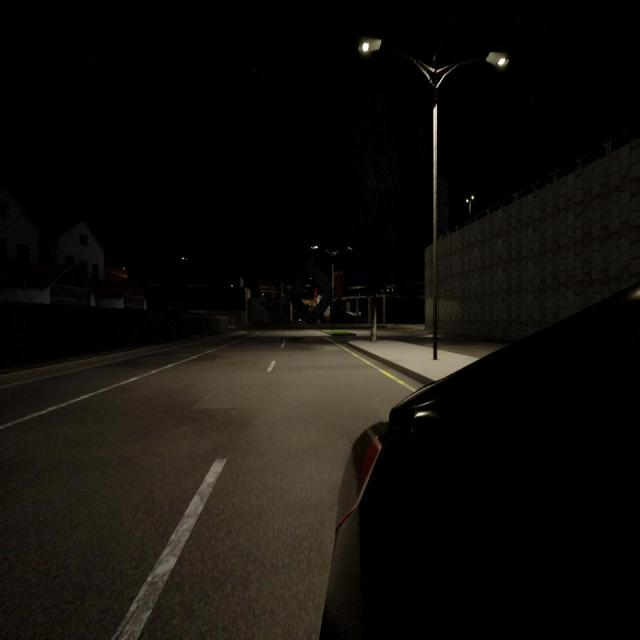Vehicle: (326, 290, 640, 638)
